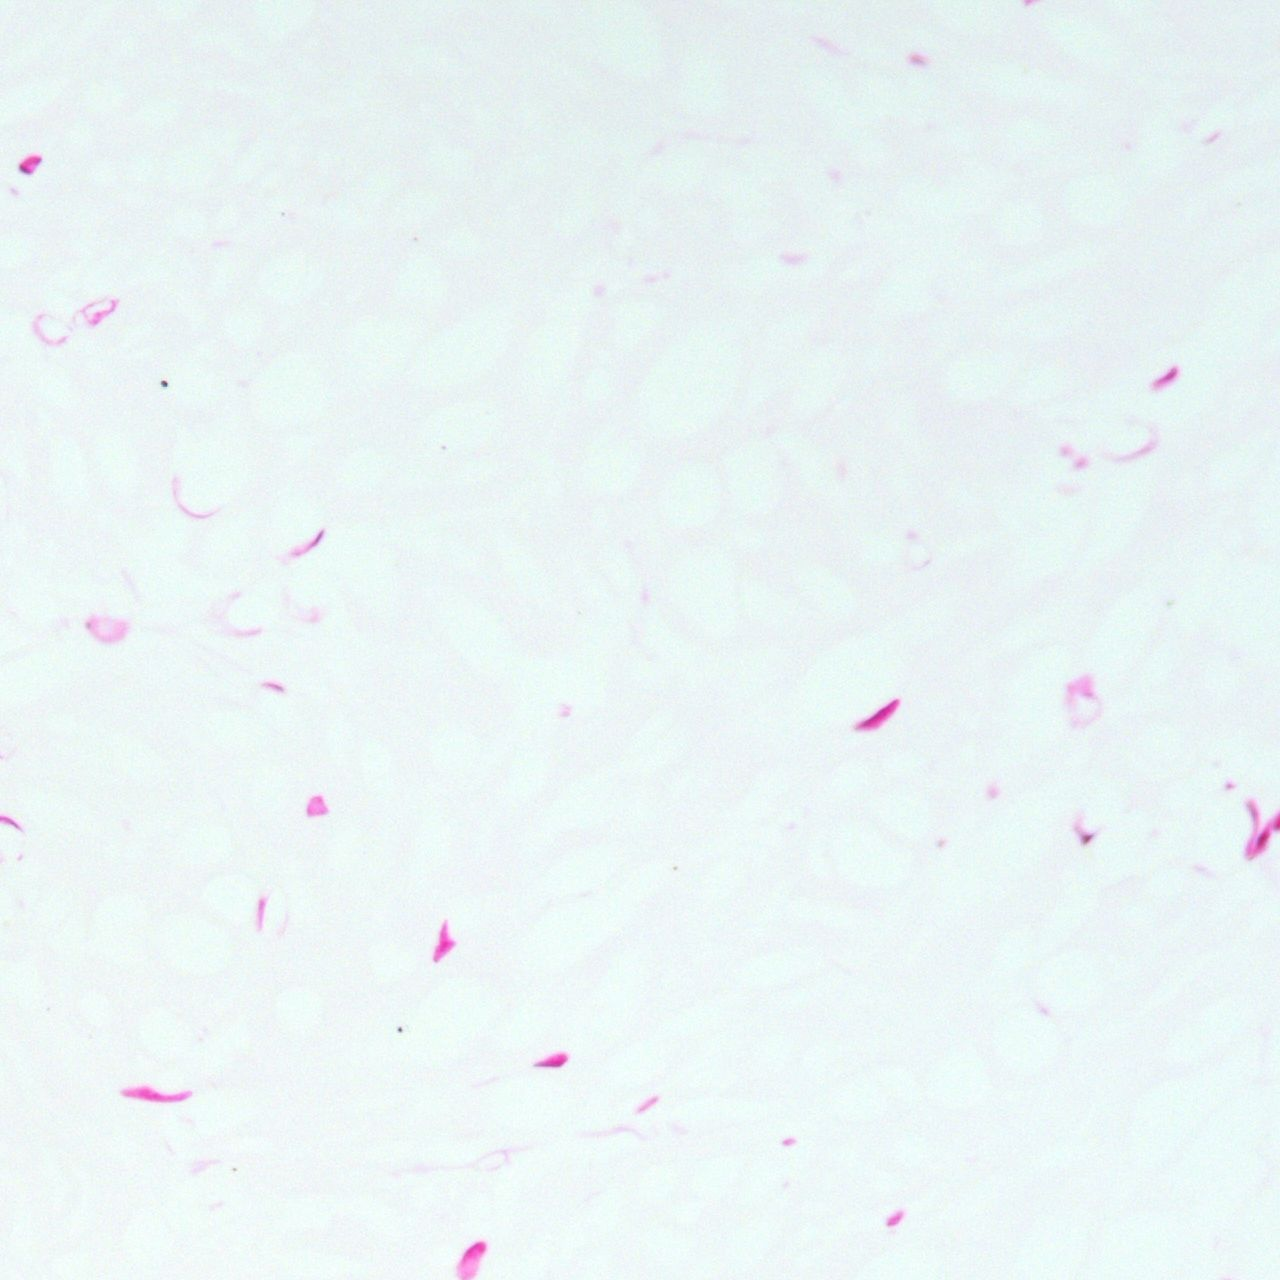dust: (159, 379, 168, 388), (397, 1026, 402, 1032)
nucleus-FG: (856, 692, 908, 738), (1244, 796, 1280, 860), (1148, 361, 1184, 393), (18, 148, 45, 177), (533, 1051, 568, 1068)
